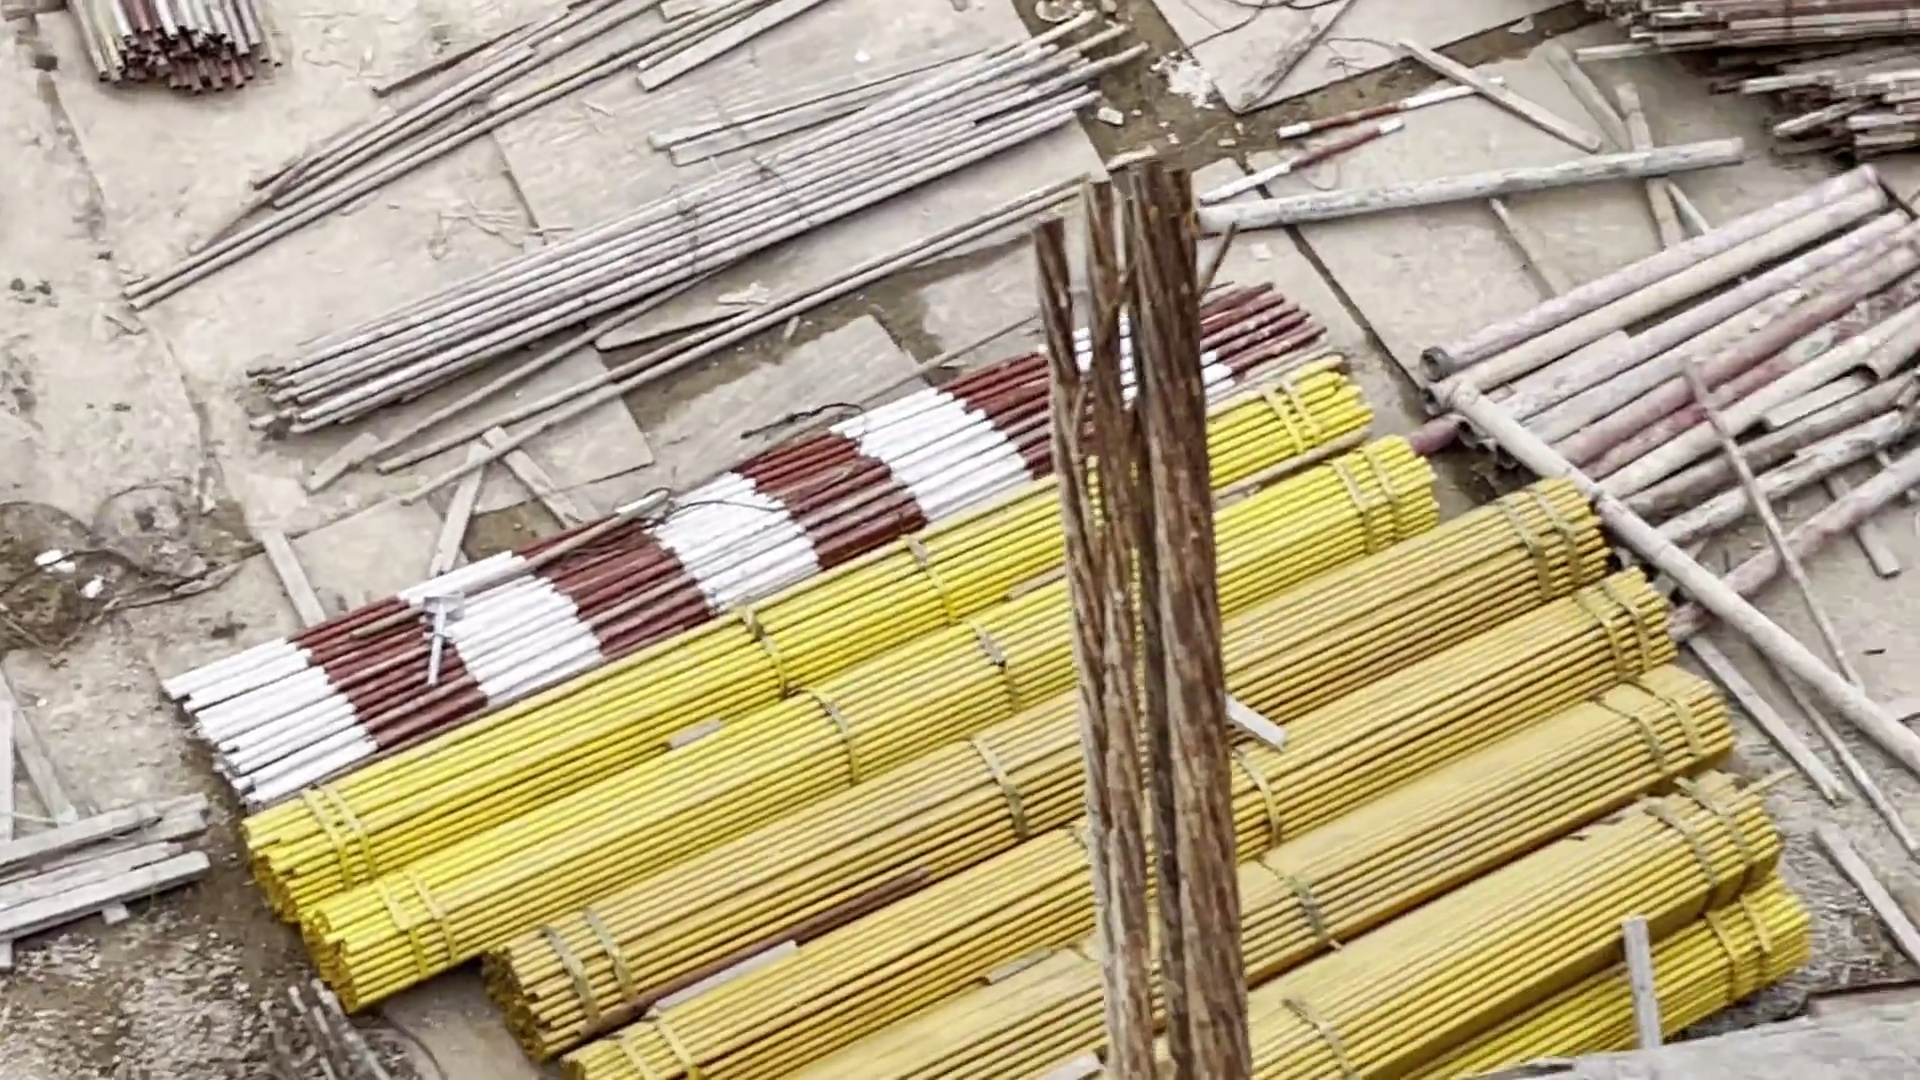wood: (224, 1, 1153, 483)
